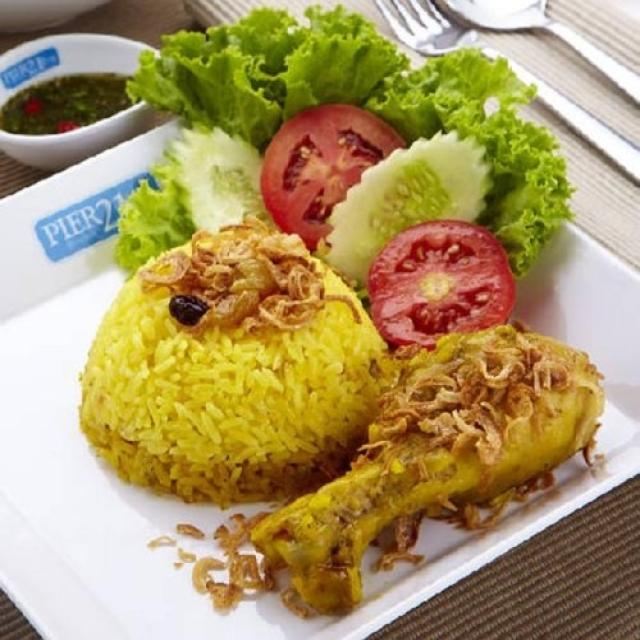米饭主食: (15, 13, 628, 610)
